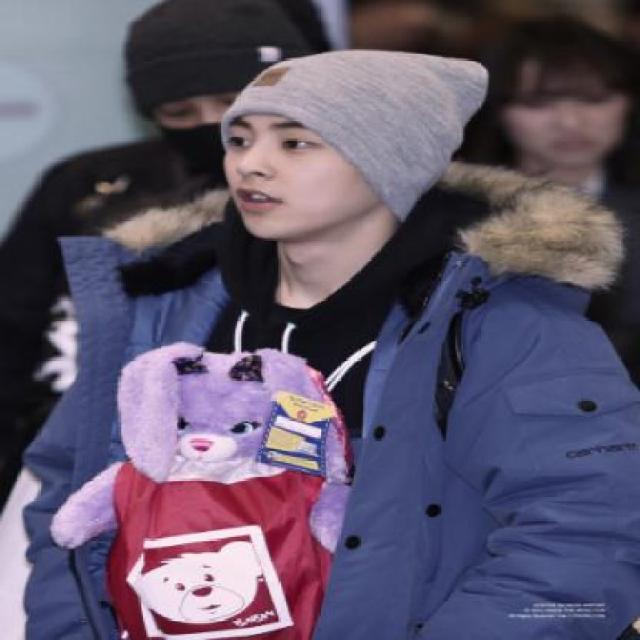hat: (220, 49, 489, 220)
